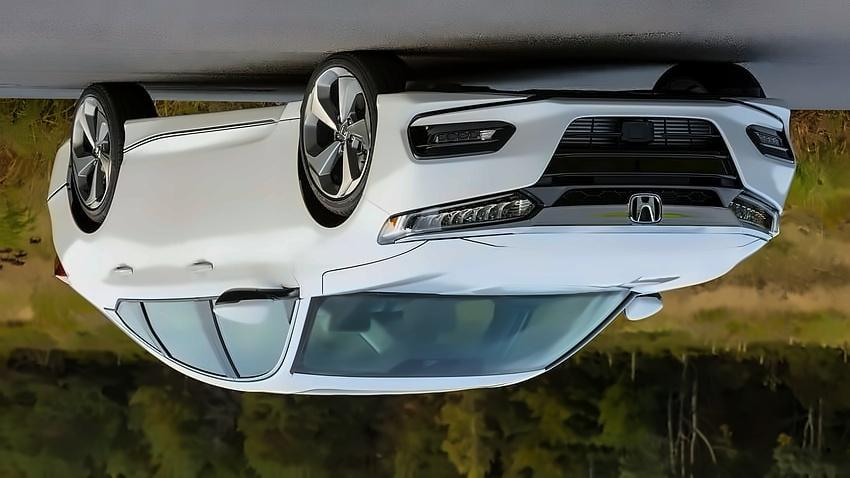Car hood: (316, 222, 776, 302)
Fender - -F-L-: (287, 89, 394, 301)
Fender - -R-L-: (39, 179, 121, 287)
Front bumper: (369, 82, 804, 210)
Headlight - -L-: (372, 183, 551, 254)
Headlight - -R-: (722, 185, 787, 244)
Passenger-s door - -F-L-: (187, 115, 306, 391)
Passenger-s door - -R-L-: (87, 123, 213, 389)
Rear bumper: (34, 126, 80, 206)
Rear light - -L-: (43, 243, 74, 287)
Side bumper - -L-: (112, 97, 307, 157)
Side mirror - -L-: (204, 270, 295, 332)
Side mirror - -R-: (617, 285, 676, 331)
